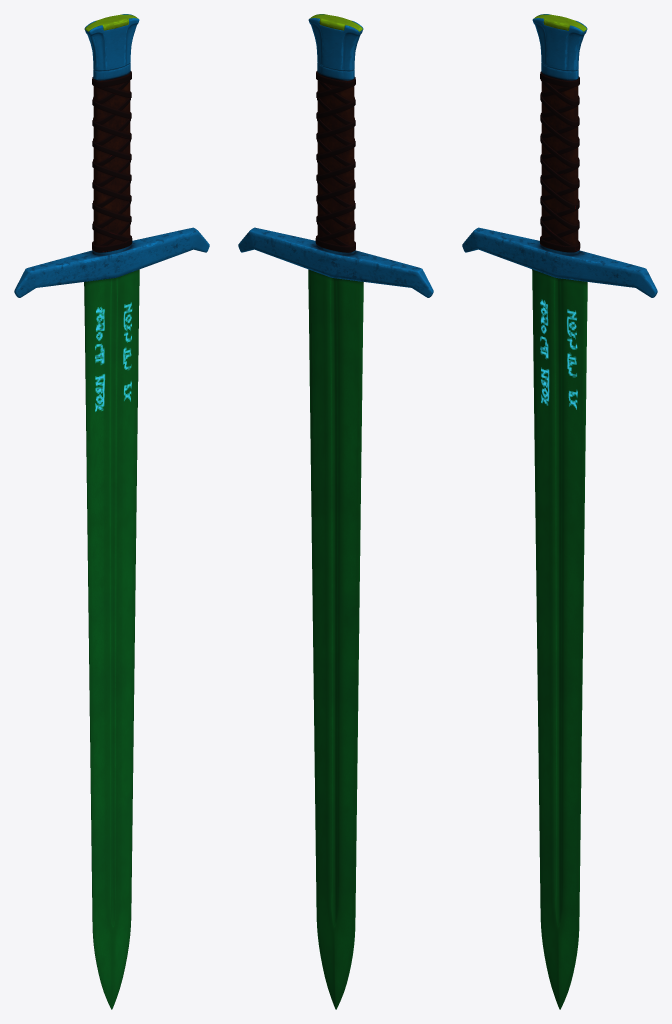
Rendered from sword.glb.
3 views of the same model, side by side, from view 1: azimuth 30°, elevation 25°; view 2: azimuth 150°, elevation 25°; view 3: azimuth 330°, elevation 25° (orthographic).
Parts seen in each view (by area): view 1: Excalibur_Sword; view 2: Excalibur_Sword; view 3: Excalibur_Sword.
Part boxes in pixels (<box>): Excalibur_Sword: <box>14,14,209,1009</box>; Excalibur_Sword: <box>238,14,433,1009</box>; Excalibur_Sword: <box>462,14,657,1009</box>.
Bounding box in the file's own units: 0.9643 × 4.7 × 0.0938.
Materials: 1 (1 with a texture image).
